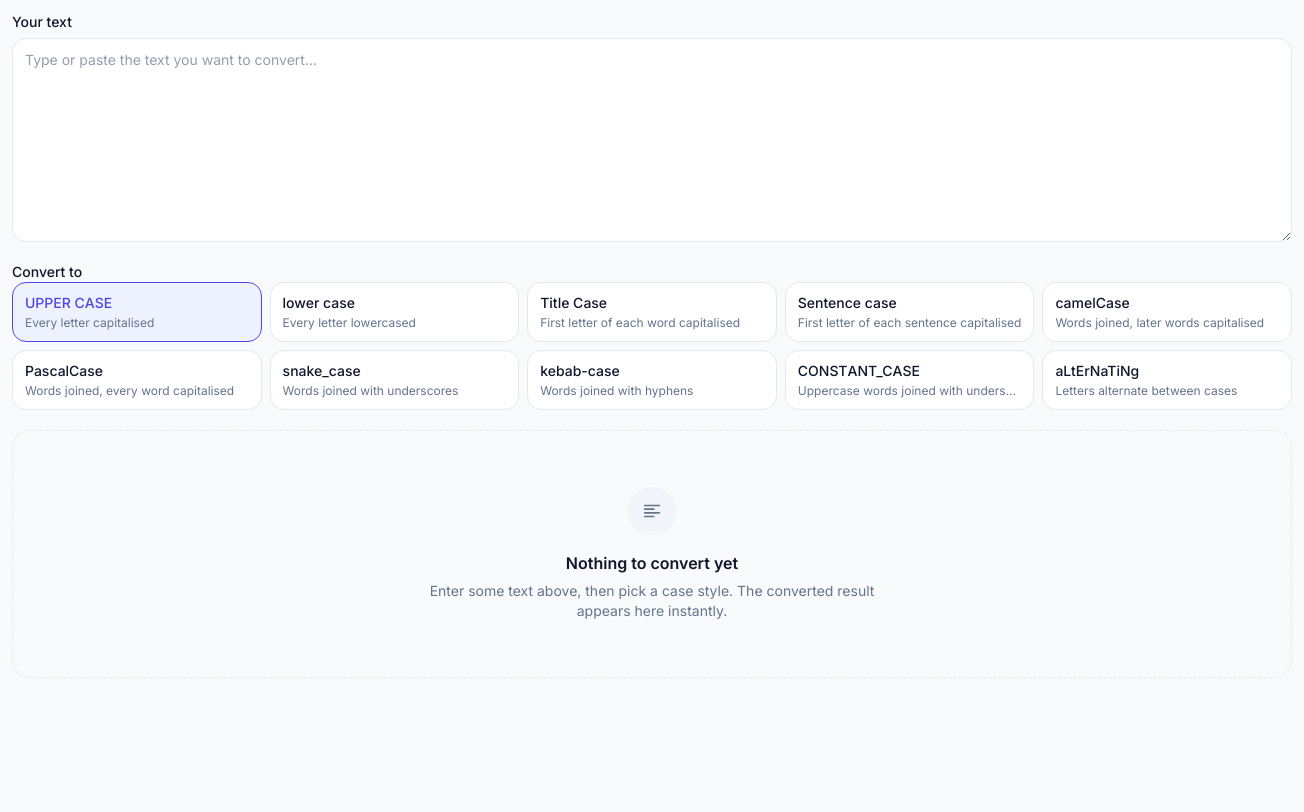
Test: CaseConverterTool › applies the default style to typed text
The image size is (1304, 812).
Type "hello world" into the text box labelled "Your text".
click(652, 140); type("hello world")  # box top-left (12, 38), bottom-right (1292, 242)
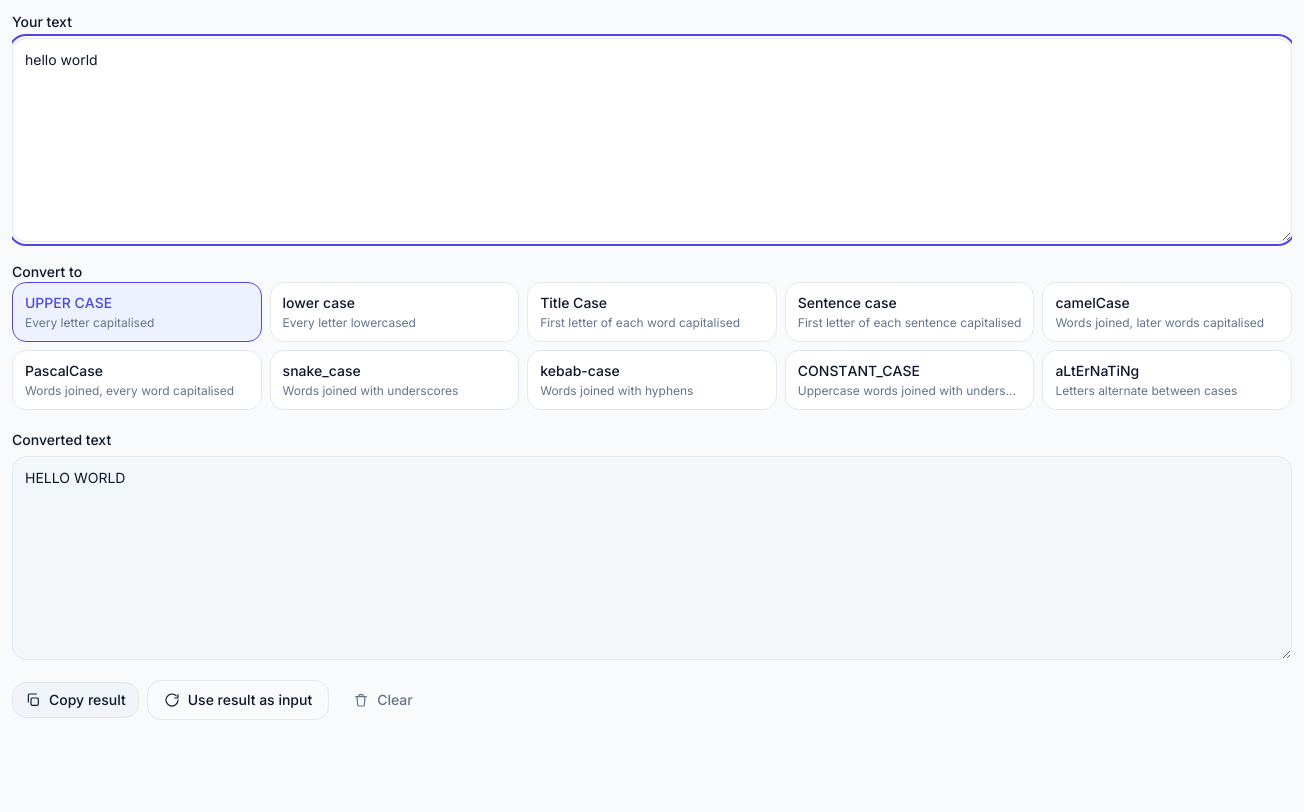
Result: the text box labelled "Converted text" holds "HELLO WORLD" at top-left (12, 456), bottom-right (1292, 660)
